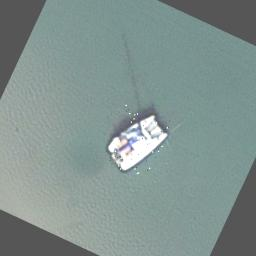boat: (98, 101, 174, 183)
